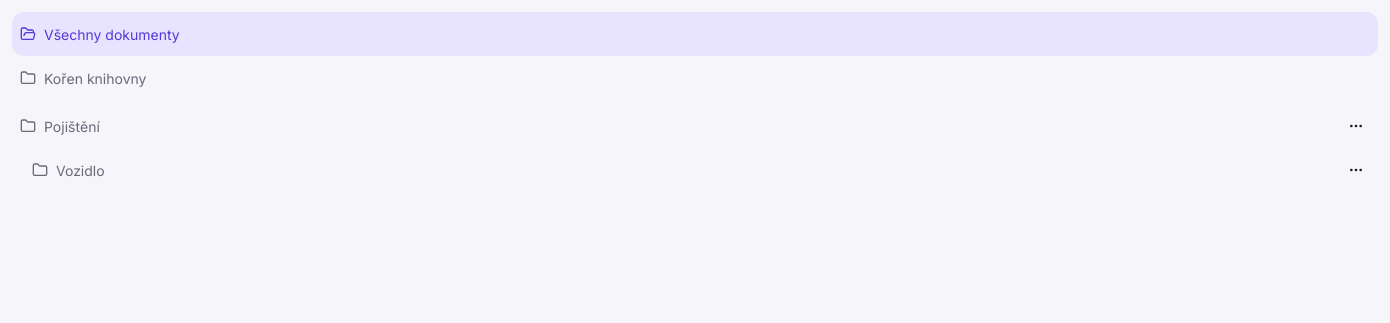
Scenario: documents frontend › renders the hierarchical folder tree and exposes accessible movement
Expected: the button "Pojištění" is shown, [12, 104, 1330, 148]
Expected: the button "Vozidlo" is shown, [24, 148, 1330, 192]
Click the button named "Akce složky Pojištění": (1356, 126) [1334, 104, 1378, 148]
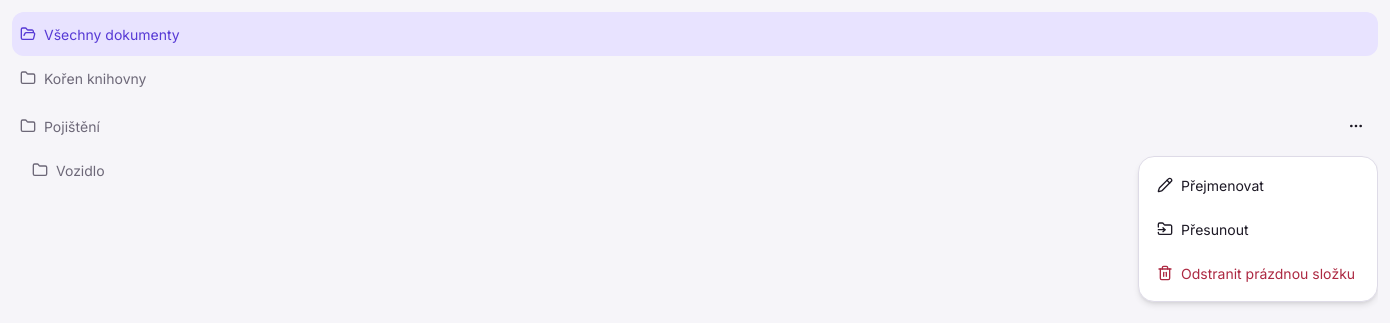
Expected: the menu item "Přesunout" is shown, [1157, 220, 1249, 238]
